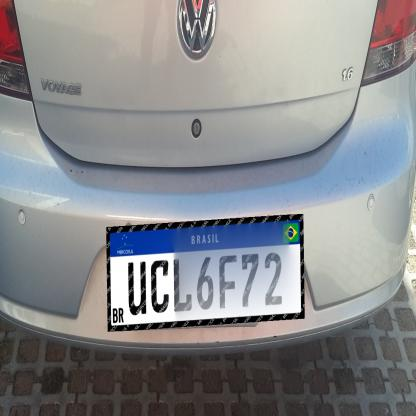PlacaM: (106, 214, 305, 332)
